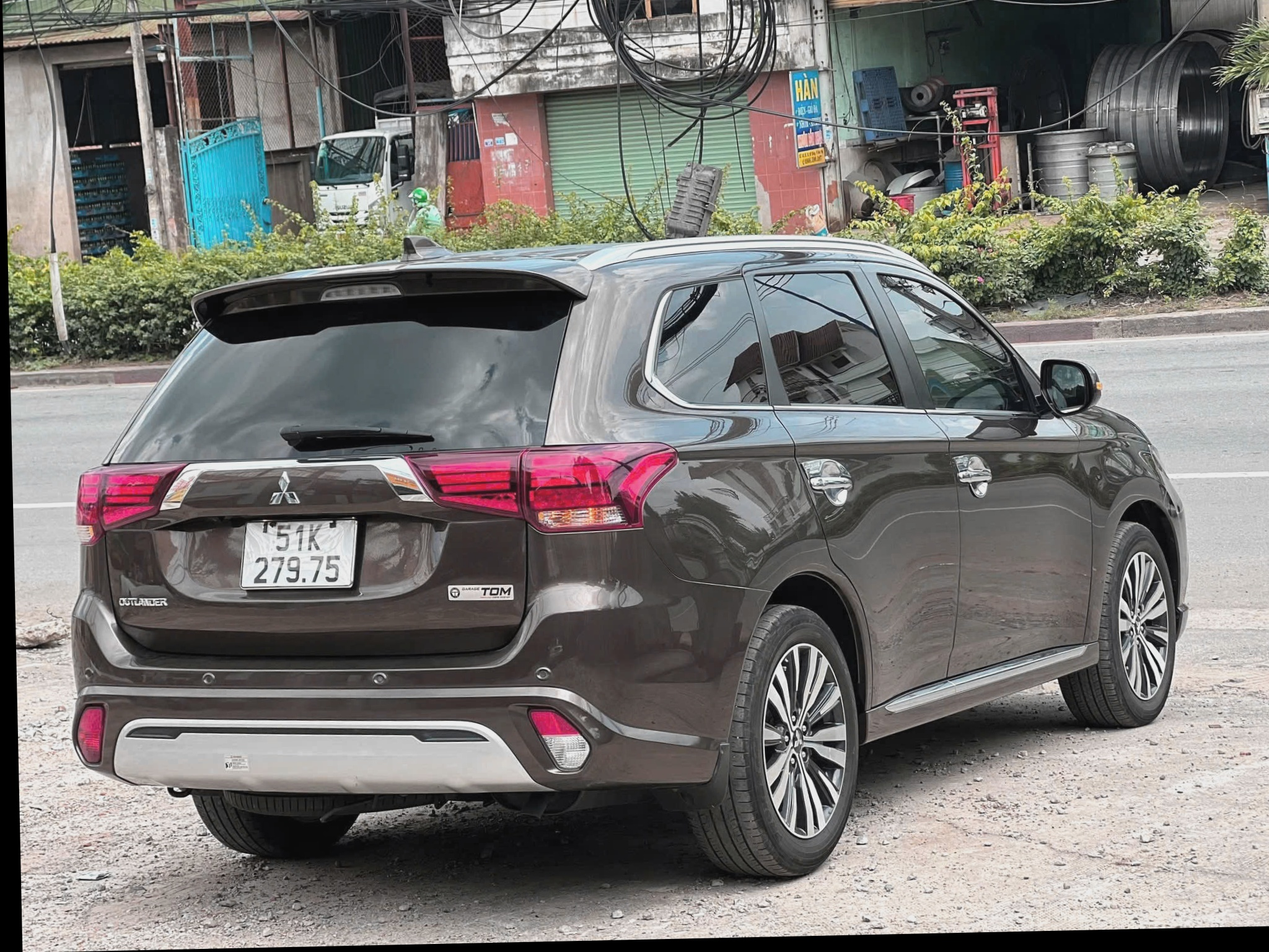Bien-so: (268, 502, 395, 579)
